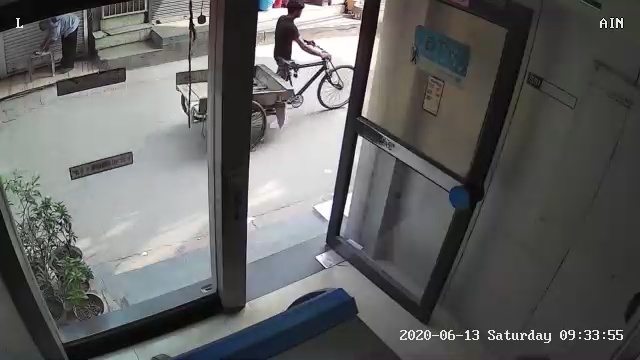open: (189, 7, 541, 333)
